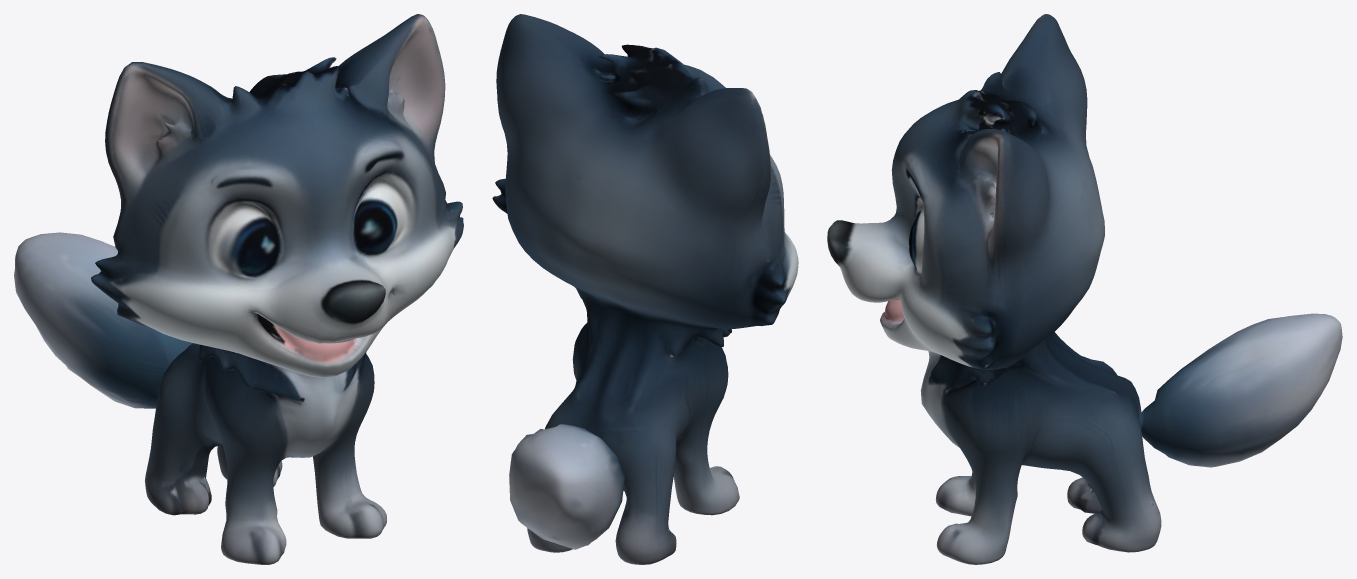
The model's file is fox.glb.
3 renders of one model, left to right at view 1: azimuth 30°, elevation 25°; view 2: azimuth 150°, elevation 25°; view 3: azimuth 270°, elevation 25°, orthographic. The views are drawn at different scales.
Visible parts, largest first — view 1: Fox; view 2: Fox; view 3: Fox.
Boxes of the visible parts, bbox=[...] form: Fox: bbox=[14, 14, 463, 564]; Fox: bbox=[492, 14, 798, 564]; Fox: bbox=[827, 14, 1342, 564].
Size of the model in its own units: 1.46 by 1.99 by 2.03.
1 material, 1 textured.
